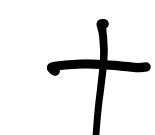plus: (47, 19, 151, 135)
